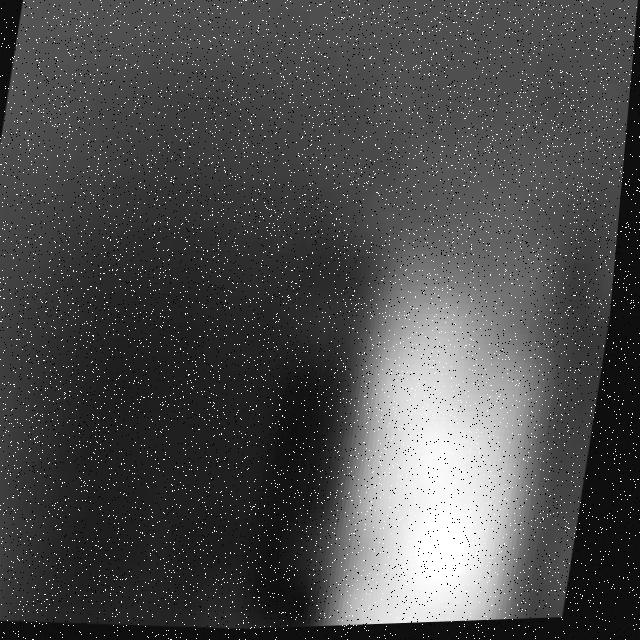person: (291, 177, 619, 631)
